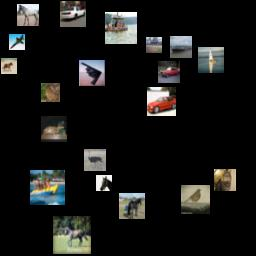airplane: (79, 60, 105, 86), (9, 34, 25, 50)
automobile: (147, 87, 176, 116), (60, 1, 86, 27), (158, 61, 180, 83)
bird: (181, 185, 210, 214), (84, 149, 106, 171)
cat: (214, 169, 236, 191)
deer: (41, 116, 67, 142), (41, 83, 60, 102)
ship: (30, 170, 65, 205), (105, 12, 137, 44), (198, 47, 224, 73), (170, 36, 192, 58)
truck: (146, 37, 162, 53)
